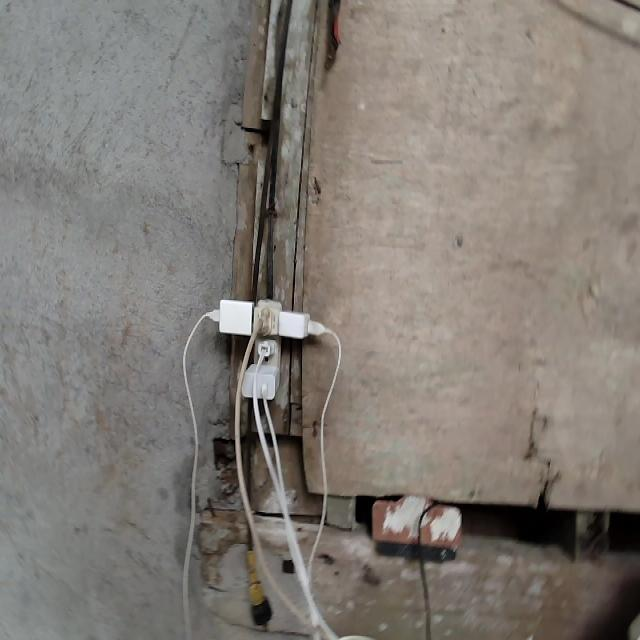-: (203, 294, 323, 398)
